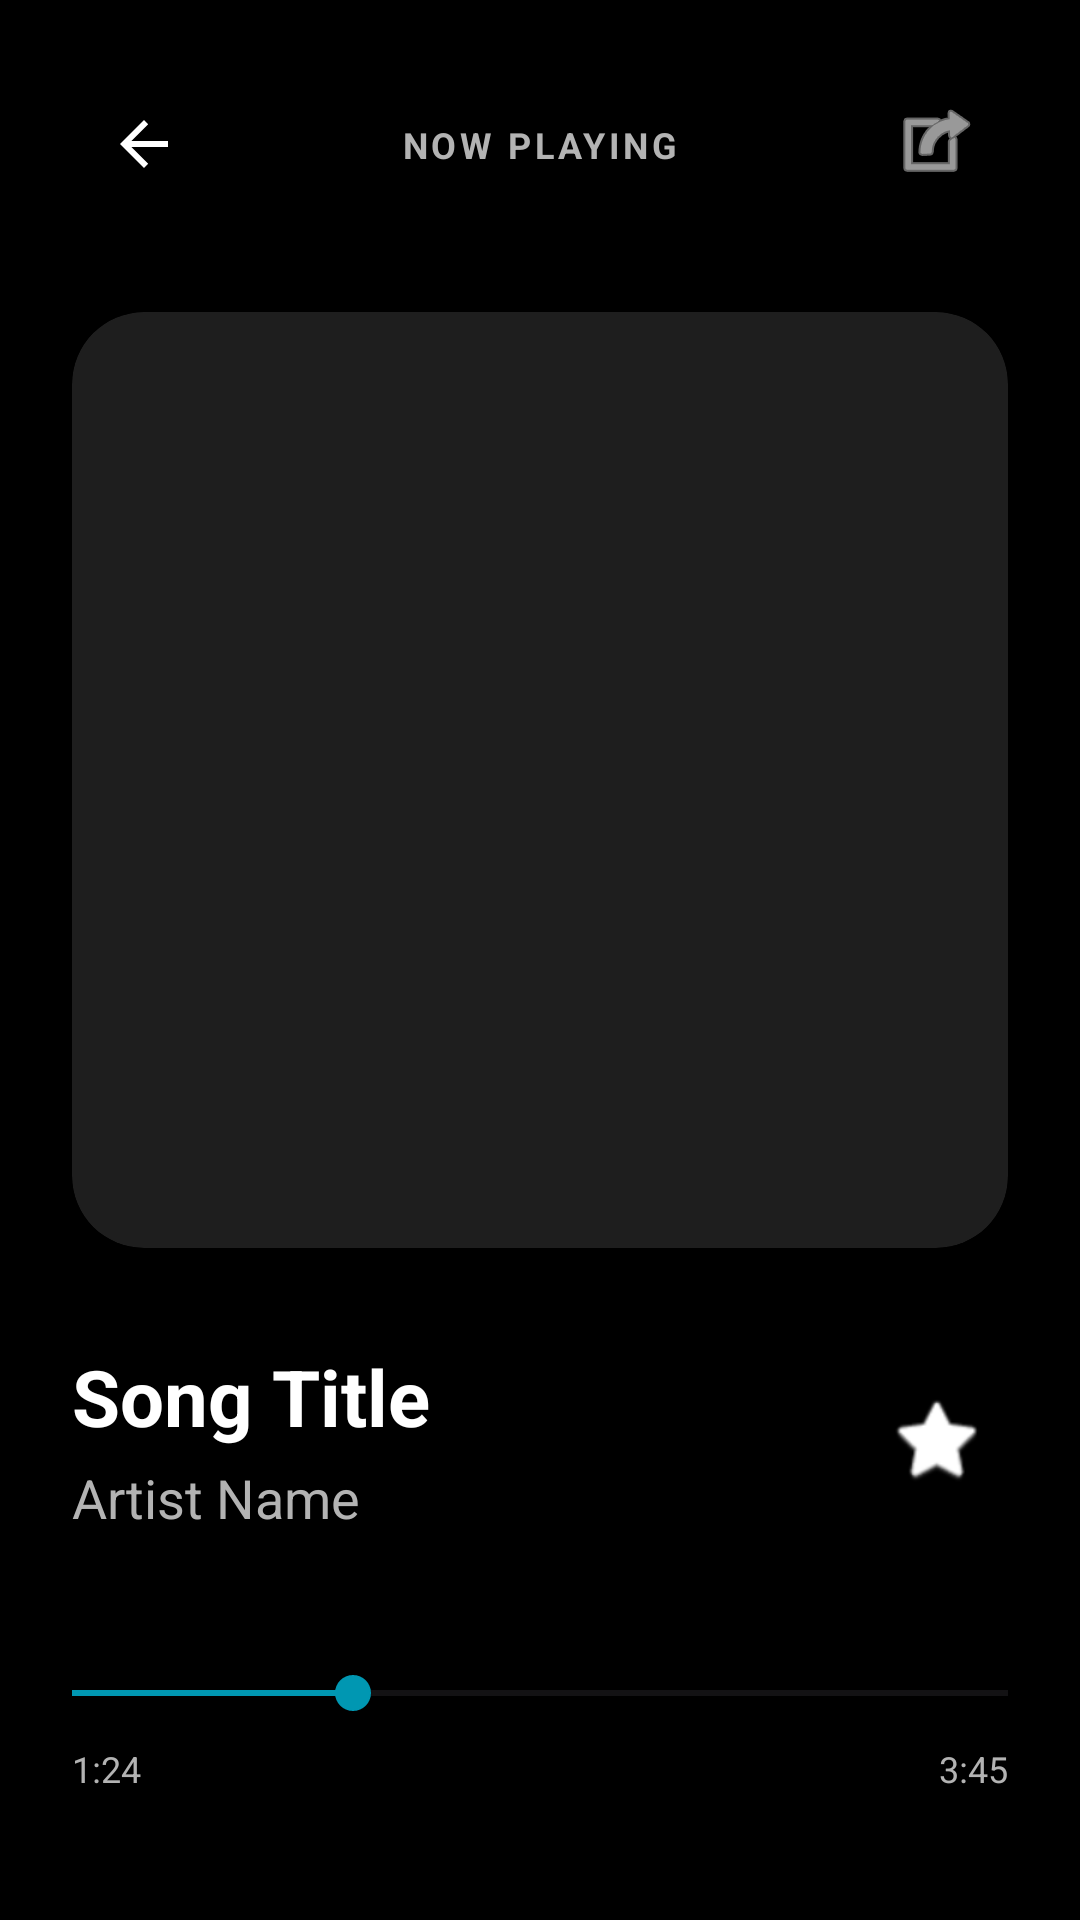

Screen size 1080px x 1920px. Icon name, then its center in pixels as (x,y):
set as: (937,140)
star: (937,1440)
